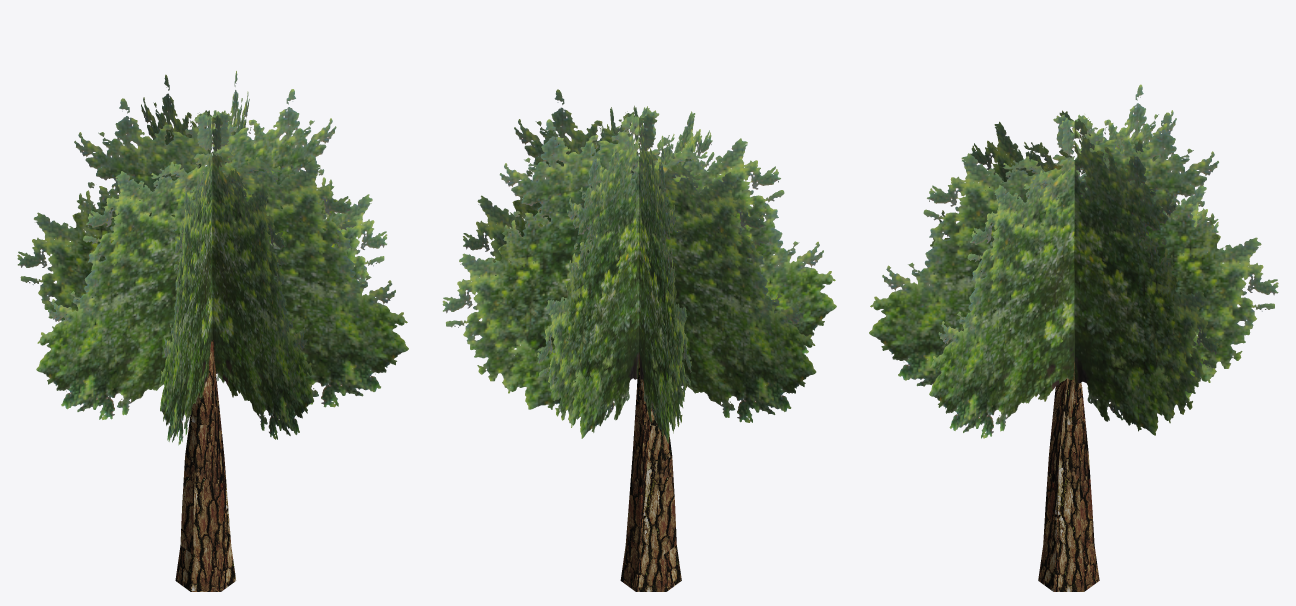
Rendered from TREE_03.fbx.
The picture shows the model from 3 angles, left to right: view 1: azimuth 30°, elevation 25°; view 2: azimuth 150°, elevation 25°; view 3: azimuth 270°, elevation 25°; orthographic projection.
Parts seen in each view (by area): view 1: TREE_03; view 2: TREE_03; view 3: TREE_03.
Part boxes in pixels (x1,y1,x2,y2): TREE_03: (17, 71, 408, 591); TREE_03: (442, 89, 836, 591); TREE_03: (869, 84, 1278, 591).
Size of the model in its own units: 334 by 430 by 334.
